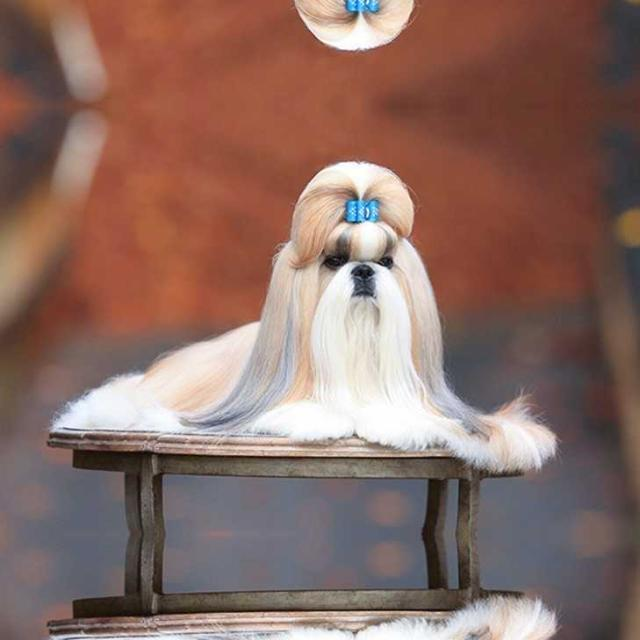dog: (275, 135, 469, 383), (275, 0, 469, 75)
